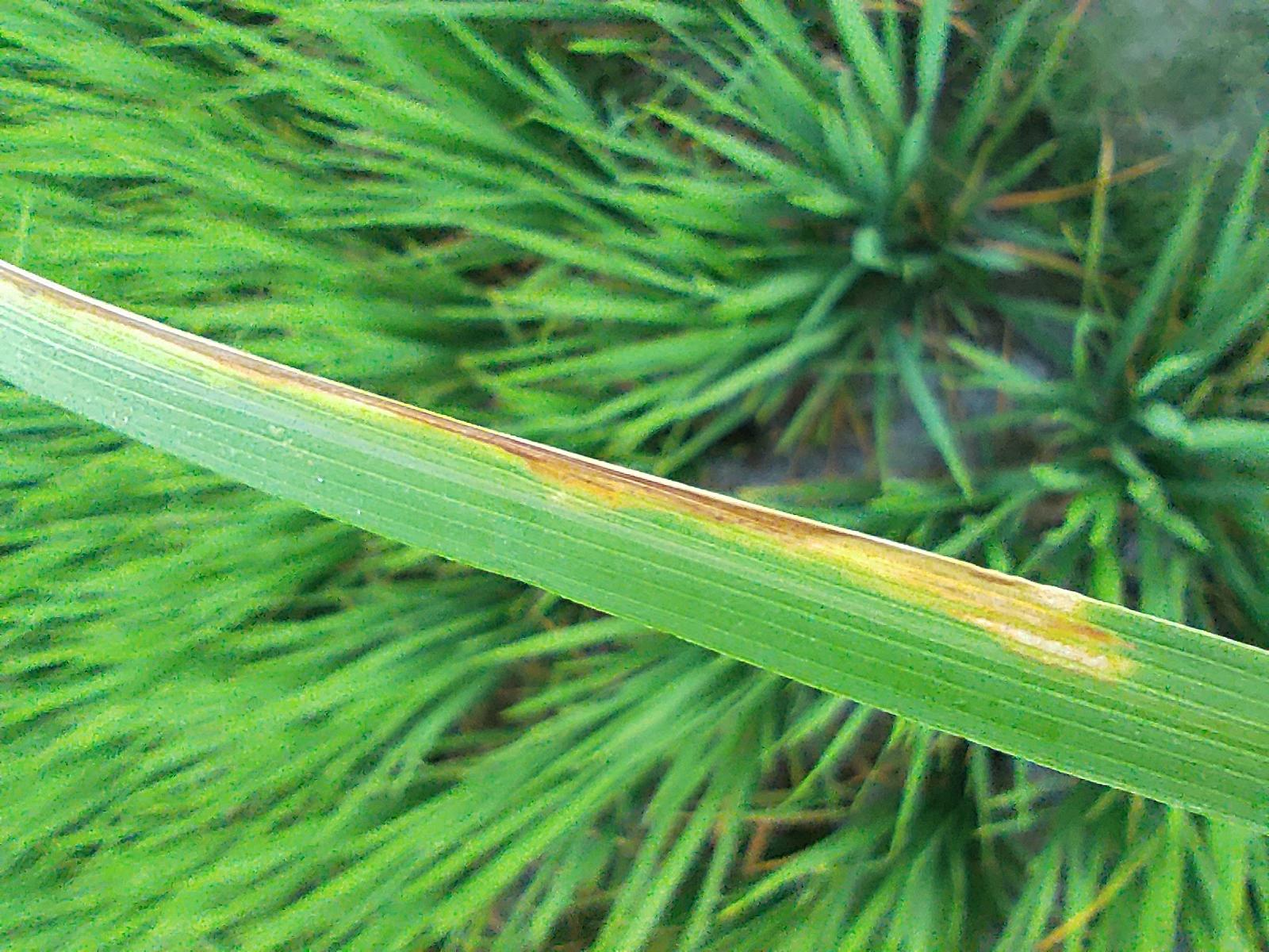BLB: (467, 0, 921, 817)
LEAF: (159, 0, 917, 951)
